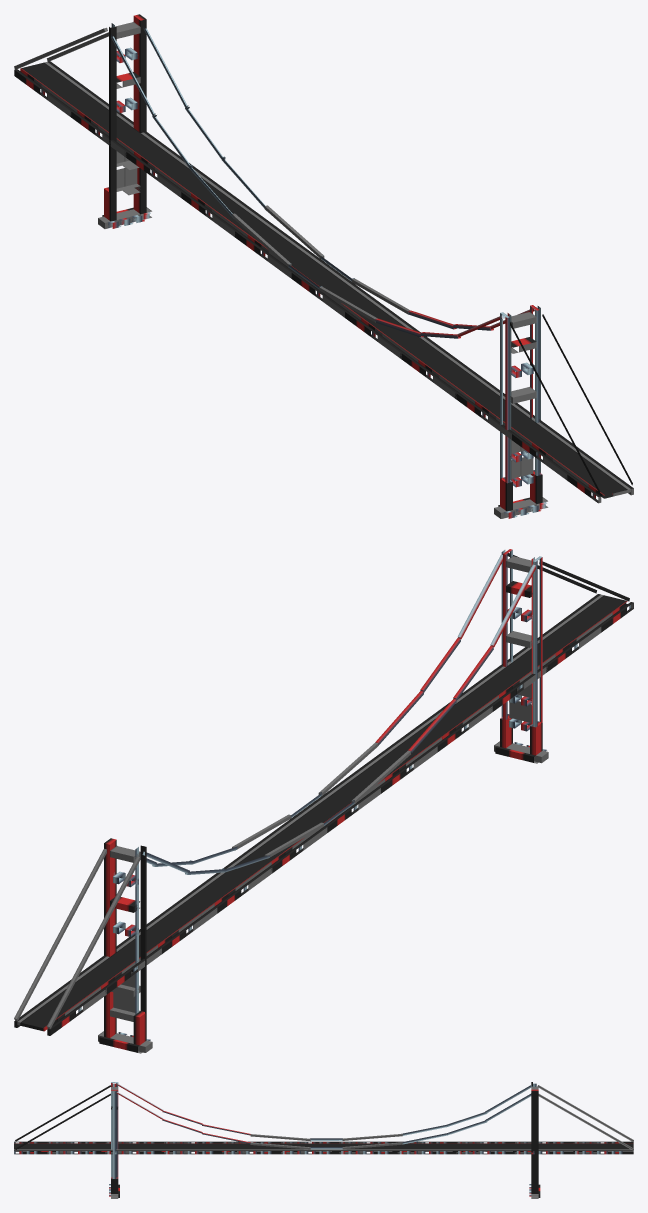
File: Golden Gate Bridge.fbx
3 renders of one model, top to bottom at view 1: azimuth 30°, elevation 25°; view 2: azimuth 150°, elevation 25°; view 3: azimuth 270°, elevation 25°, orthographic. The views are drawn at different scales.
Visible parts, largest first — view 1: cube (×14); view 2: cube (×16); view 3: cube (×30).
Part boxes in pixels (box(x1,y1,x2,y2)): cube (×14): box(20, 14, 611, 486); cube (×16): box(14, 549, 612, 1031); cube (×30): box(15, 1085, 633, 1178).
Size of the model in its own units: 1 by 4 by 21.2.
Materials: 1 (1 with a texture image).
